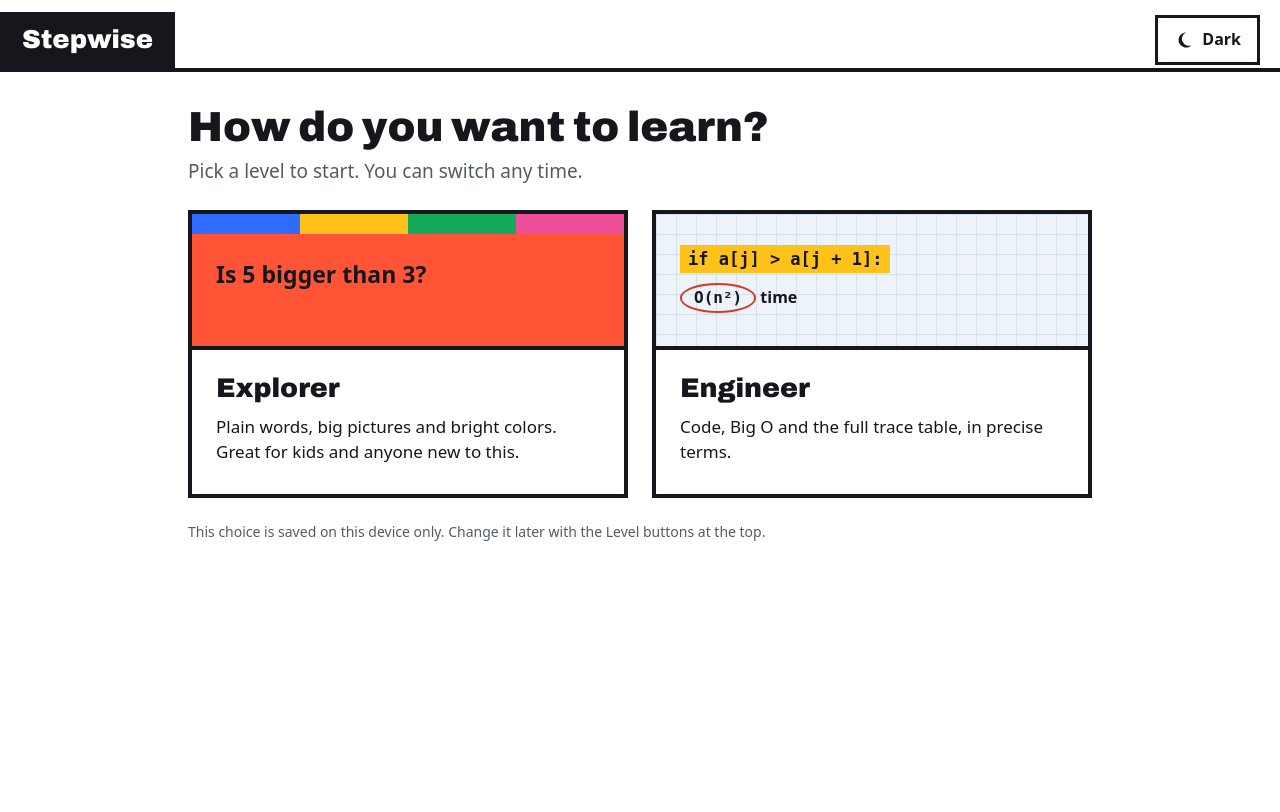
Test: first visit › keeps the address the visitor came to, so a deep link opens after picking
Click the button "Engineer": (872, 282) left=652, top=210, right=1092, bottom=498
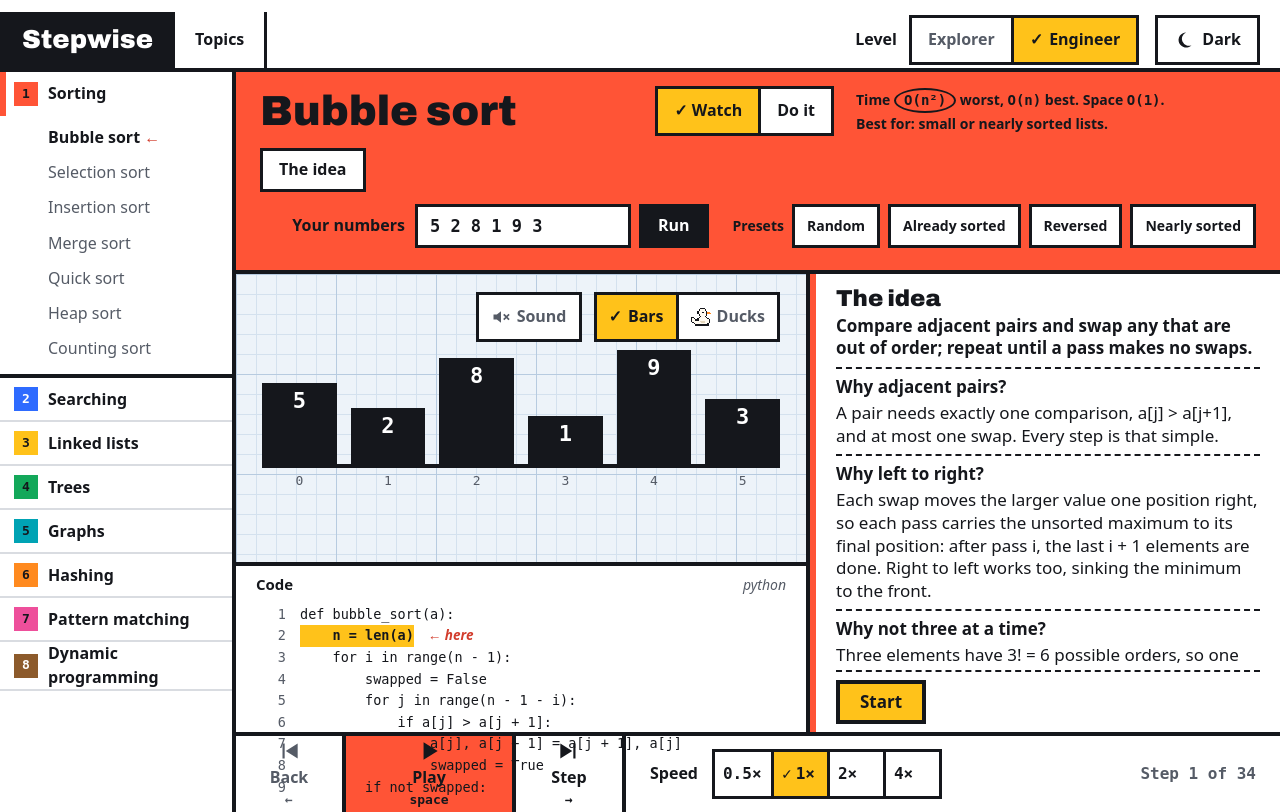
Expected: the heading "Bubble sort" is shown, left=260, top=88, right=517, bottom=134
